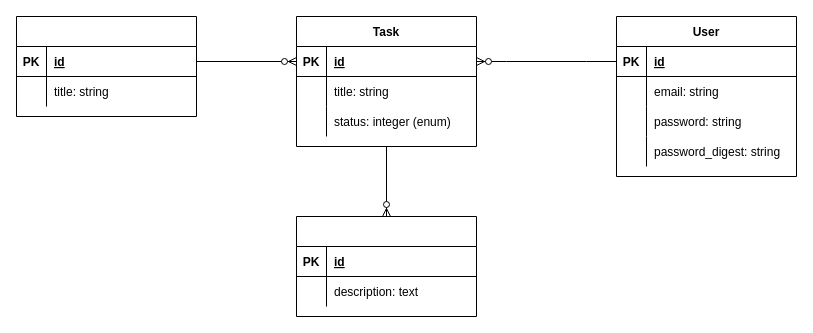
Image size: 813x333. Some labels were removed from this diagram. Each missing label, with the box of its shape:
Comment: (296, 216, 476, 316)
List: (16, 16, 196, 116)
